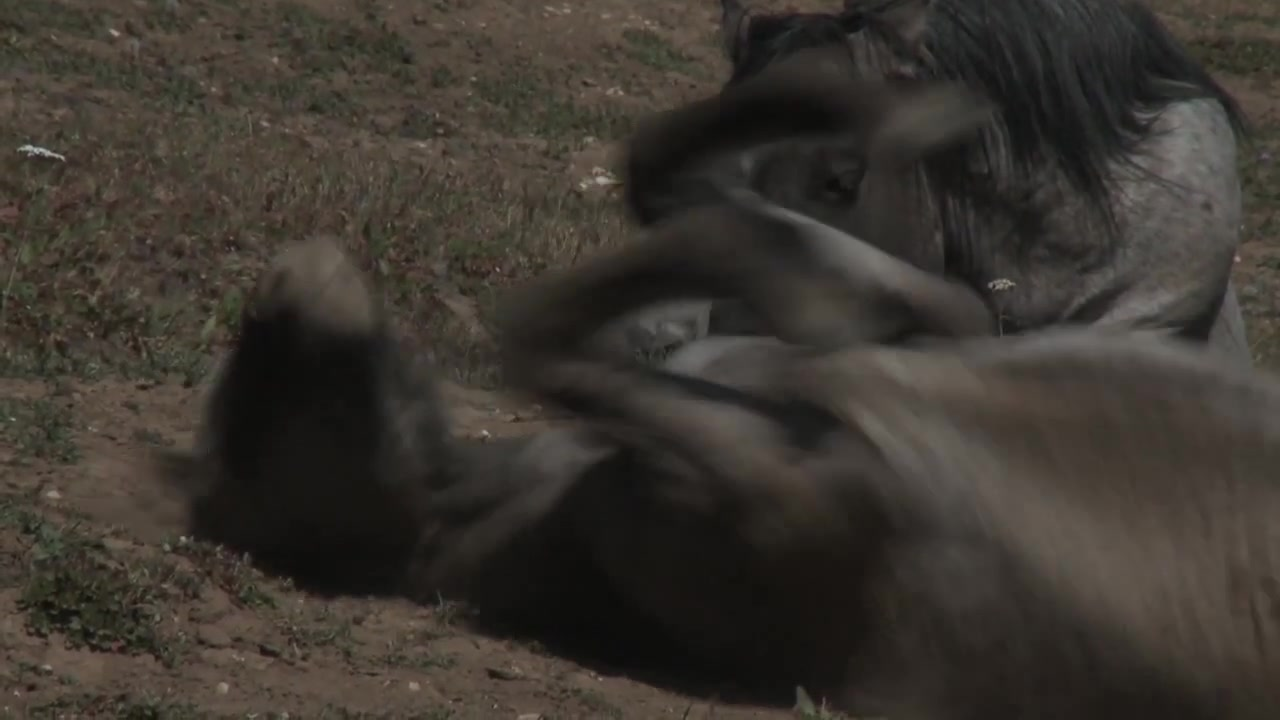horse: (161, 80, 1280, 720), (613, 1, 1259, 370)
